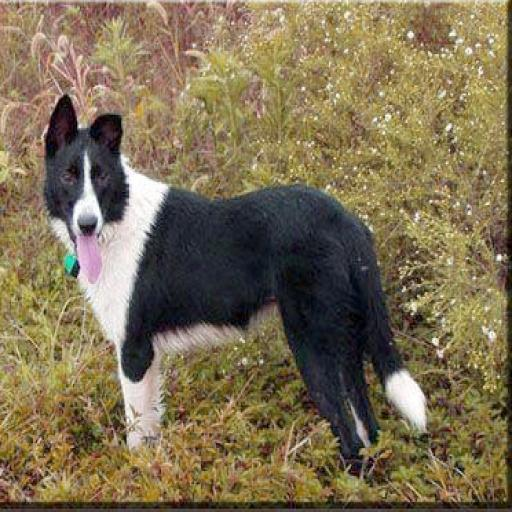dog_face: (41, 97, 138, 249)
